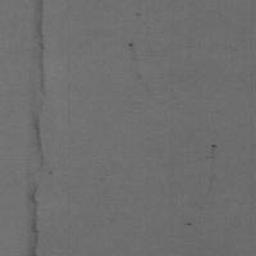Inclusion: (24, 0, 55, 256), (127, 41, 151, 95), (209, 143, 218, 184), (134, 10, 142, 18)
